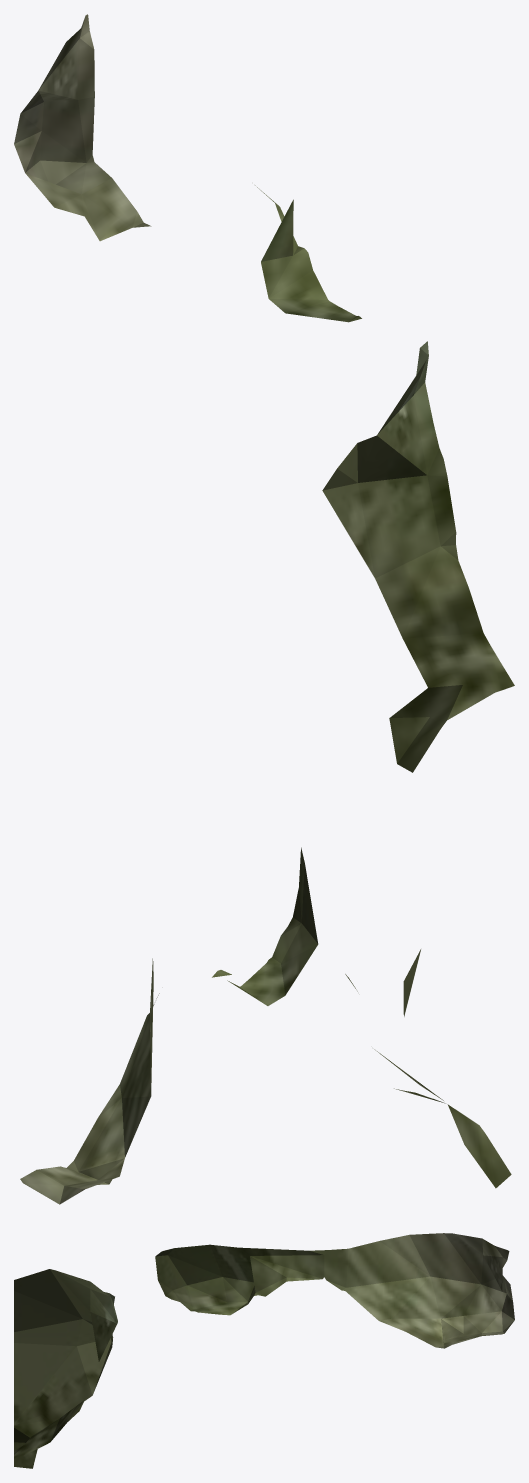
3 renders of one model, top to bottom at view 1: azimuth 30°, elevation 25°; view 2: azimuth 150°, elevation 25°; view 3: azimuth 270°, elevation 25°, orthographic. The views are drawn at different scales.
Size of the model in its own units: 0.2827 by 1.07 by 1.97.
Materials: 1 (1 with a texture image).
